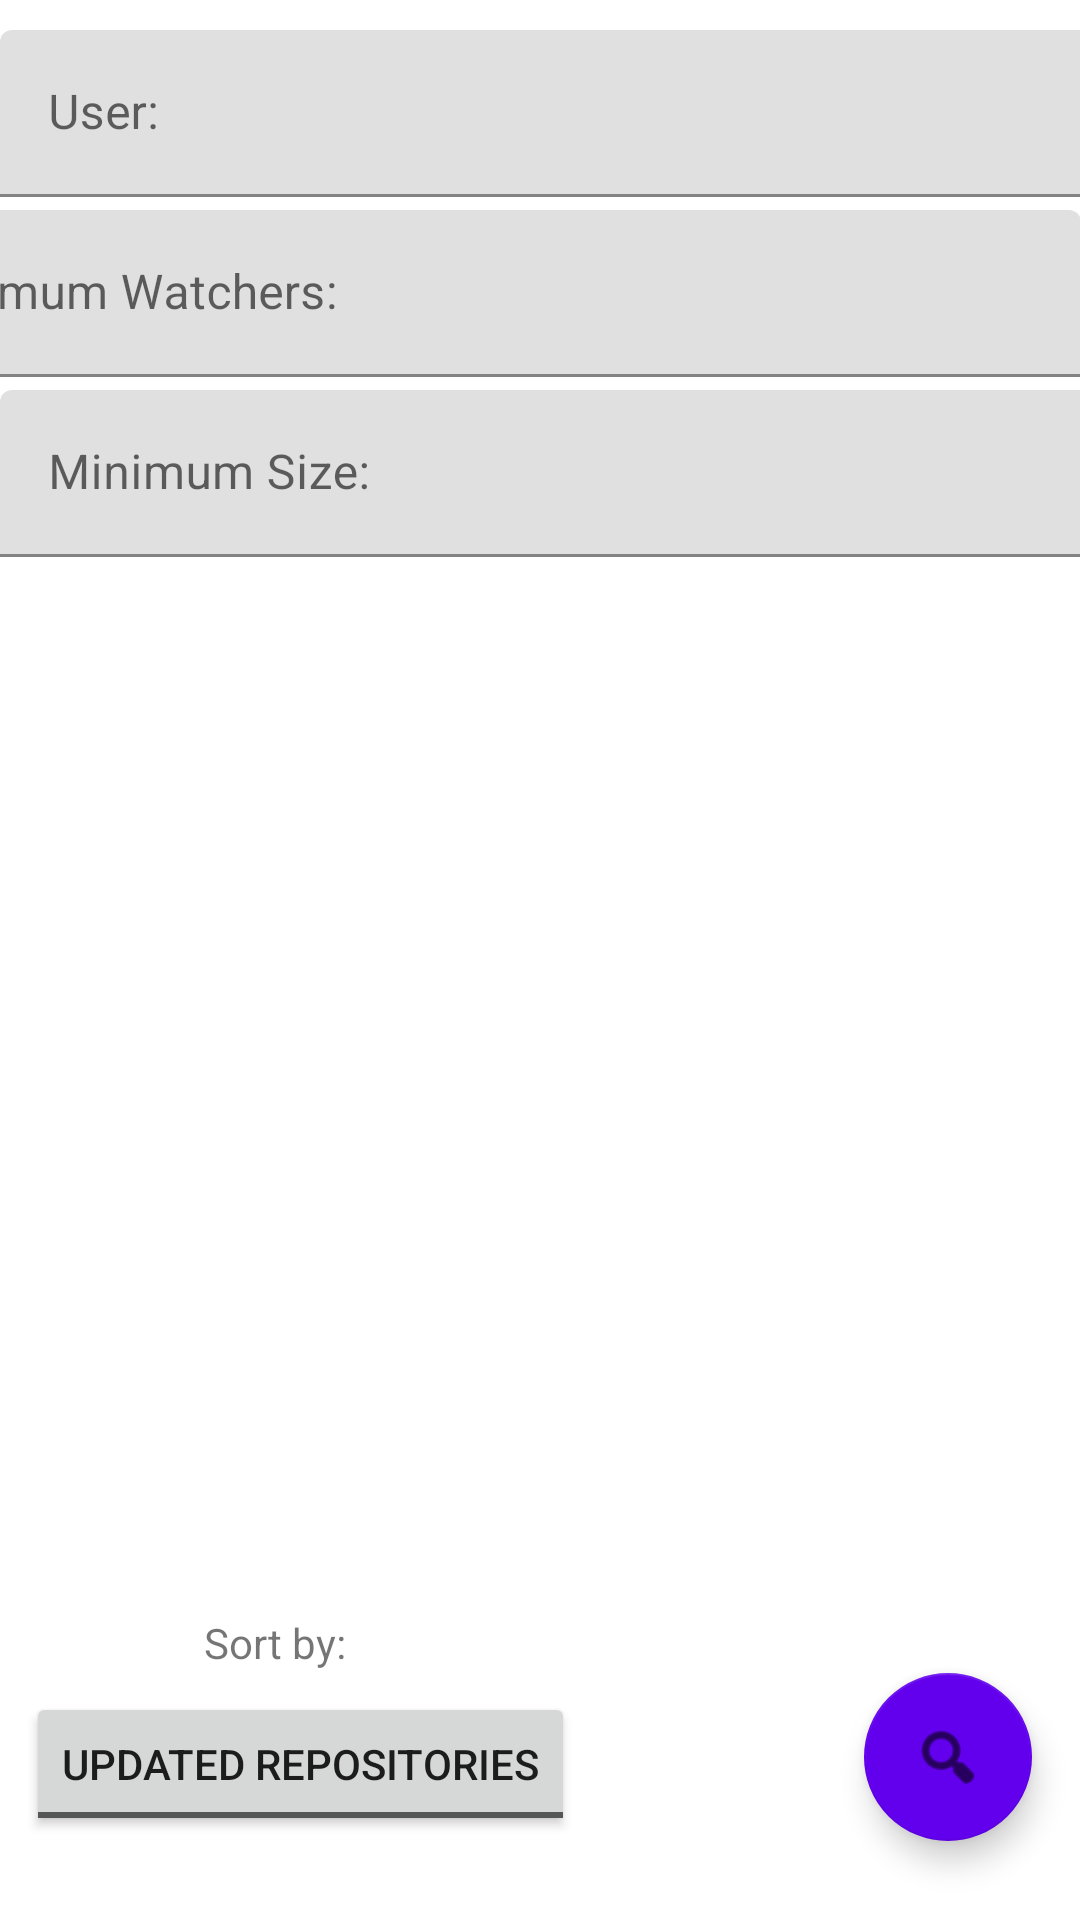

Icons on this 1080 x 1920 Android screen, each with its box as (x1, y1, x2, y2):
search: (864, 1673, 1032, 1841)
